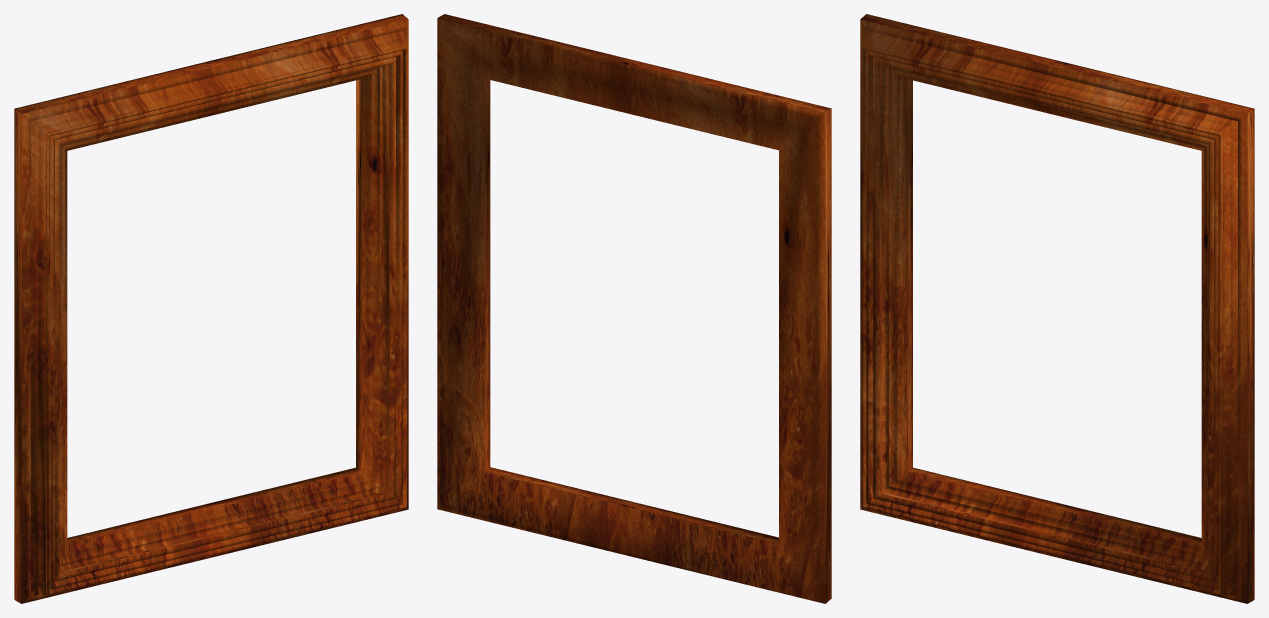
The model's file is frame01.fbx.
3 views of the same model, side by side, from view 1: azimuth 30°, elevation 25°; view 2: azimuth 150°, elevation 25°; view 3: azimuth 330°, elevation 25° (orthographic).
Visible parts, largest first — view 1: frame; view 2: frame; view 3: frame.
Part boxes in pixels (<box>): frame: <box>14,14,408,603</box>; frame: <box>437,14,831,603</box>; frame: <box>860,14,1254,603</box>.
Size of the model in its own units: 423 by 512 by 37.22.
Materials: 1 (1 with a texture image).
